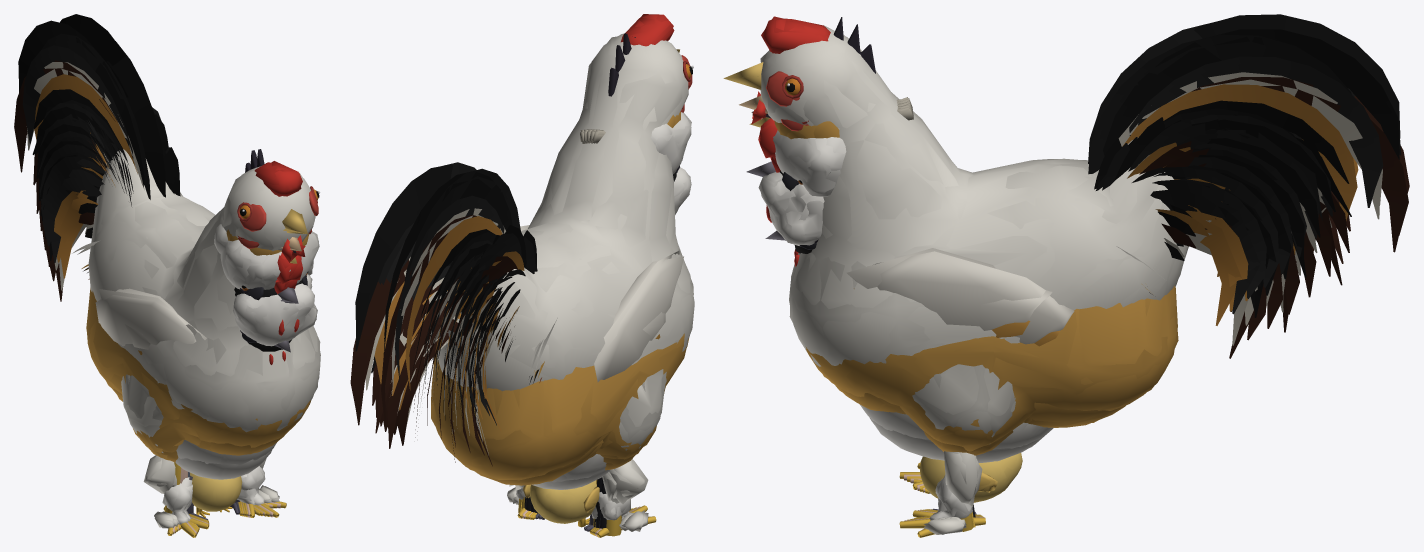
Rendered from flock.glb.
3 renders of one model, left to right at view 1: azimuth 30°, elevation 25°; view 2: azimuth 150°, elevation 25°; view 3: azimuth 270°, elevation 25°, orthographic. The views are drawn at different scales.
Visible parts, largest first — view 1: bra_r, bra_r_lo, orp_r, pol_r, aya_r, orp_r_lo, pol_h, pol_r_lo, aya_r_lo, sil_r, rir_r, sil_h (+11 smaller); view 2: bra_r, bra_r_lo, orp_r, aya_r, orp_r_lo, rir_r, rir_r_lo, pol_r, aya_r_lo, pol_r_lo, leg_r, chick (+8 smaller); view 3: bra_r, bra_r_lo, orp_r, aya_r, orp_r_lo, pol_r, rir_r, aya_r_lo, pol_r_lo, rir_r_lo, pol_h, leg_r_lo (+9 smaller).
Part boxes in pixels (x1,y1,x2,y2): bra_r: (22, 45, 320, 537); bra_r_lo: (23, 52, 320, 527); orp_r: (34, 74, 311, 534); pol_r: (41, 33, 318, 335); aya_r: (18, 14, 296, 282); orp_r_lo: (34, 81, 309, 452); pol_h: (128, 188, 316, 477); pol_r_lo: (48, 39, 319, 303); aya_r_lo: (19, 27, 141, 272); sil_r: (163, 441, 276, 526); rir_r: (14, 60, 297, 531); sil_h: (175, 450, 271, 521); bra_r: (386, 14, 694, 537); bra_r_lo: (395, 14, 693, 531); orp_r: (374, 104, 689, 536); aya_r: (355, 33, 635, 528); orp_r_lo: (377, 111, 686, 478); rir_r: (350, 215, 633, 533); rir_r_lo: (356, 233, 494, 466); pol_r: (378, 112, 691, 410); aya_r_lo: (355, 178, 600, 528); pol_r_lo: (381, 112, 691, 428); leg_r: (366, 129, 632, 535); chick: (523, 481, 599, 526); bra_r: (723, 18, 1383, 537); bra_r_lo: (752, 16, 1381, 534); orp_r: (739, 84, 1358, 530); aya_r: (751, 14, 1400, 517); orp_r_lo: (754, 91, 1356, 451); pol_r: (746, 22, 1354, 286); rir_r: (770, 77, 1409, 519); aya_r_lo: (973, 37, 1401, 517); pol_r_lo: (759, 41, 1333, 309); rir_r_lo: (771, 86, 1407, 358); pol_h: (760, 172, 1106, 266); leg_r_lo: (899, 79, 1380, 345).
Size of the model in its own units: 0.2964 by 0.7144 by 0.9101.
